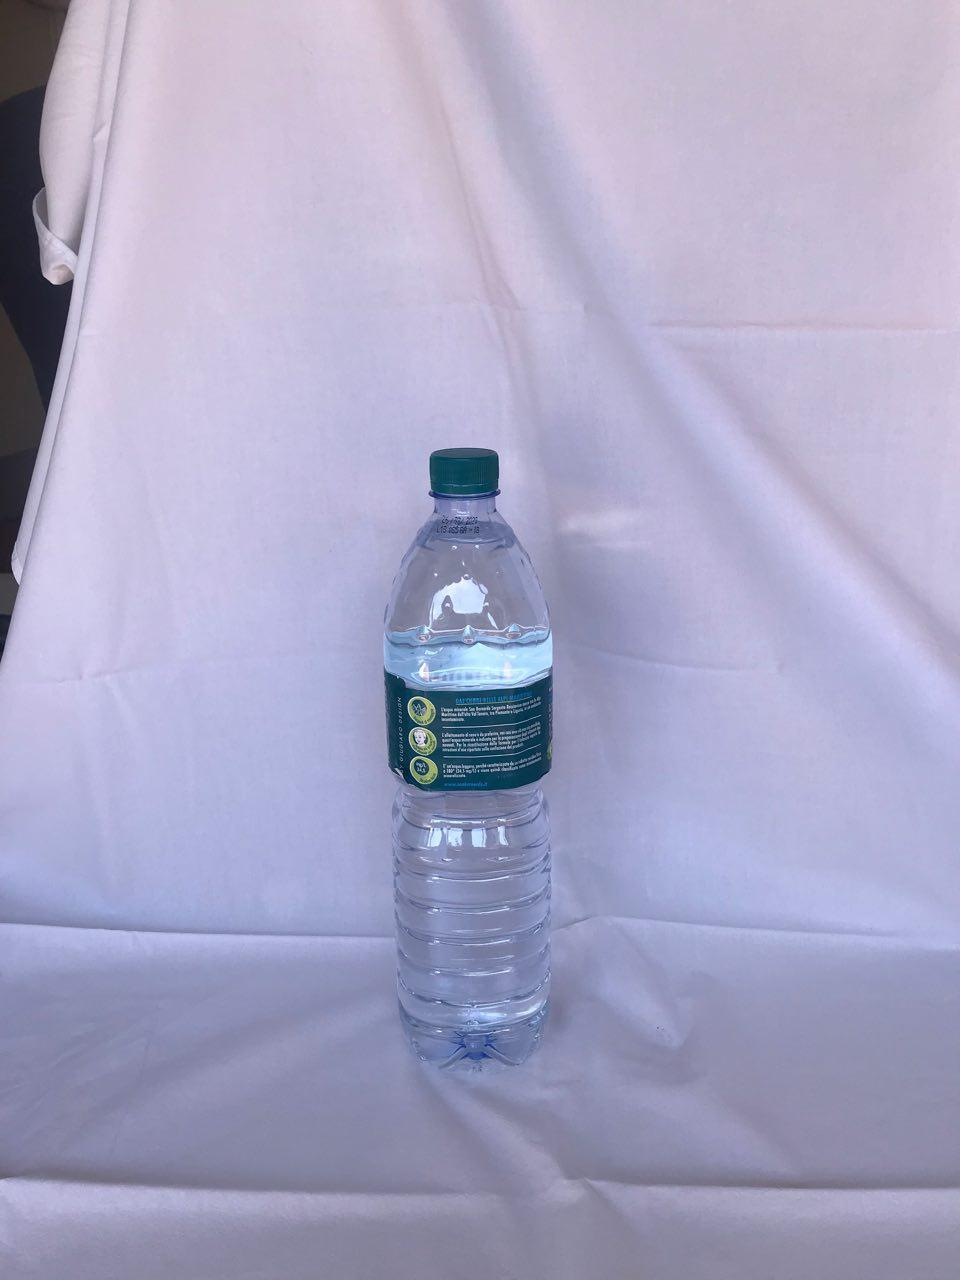san_bernardo: (381, 445, 556, 1077)
